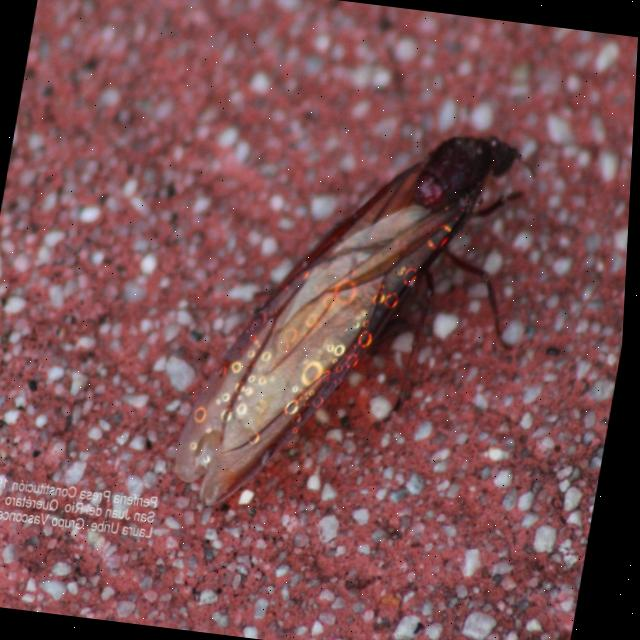Alive-Female-Alate: (170, 103, 552, 541)
